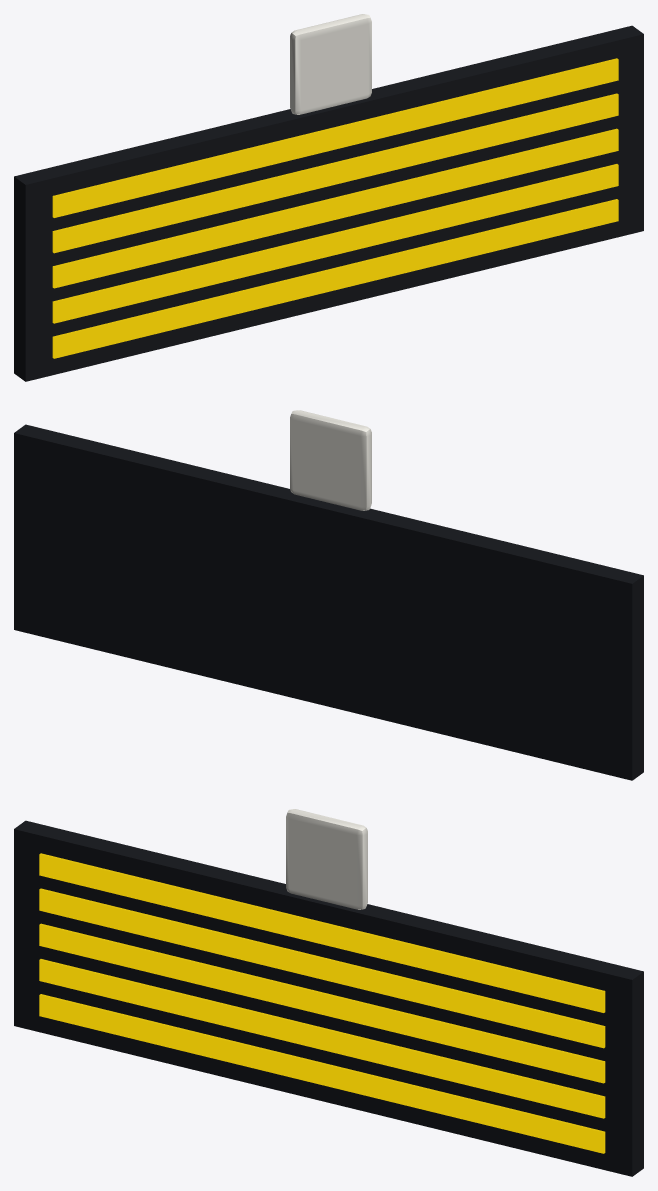
Rendered from departure-board.glb.
The picture shows the model from 3 angles, top to bottom: view 1: azimuth 30°, elevation 25°; view 2: azimuth 150°, elevation 25°; view 3: azimuth 330°, elevation 25°; orthographic projection.
Parts seen in each view (by area): view 1: part-board-frame, part-board-row, part-clock; view 2: part-board-frame, part-clock; view 3: part-board-frame, part-board-row, part-clock.
Boxes of the visible parts, x1,y1,x2,y2 form: part-board-frame: [14, 25, 643, 381]; part-board-row: [52, 58, 618, 358]; part-clock: [290, 14, 371, 114]; part-board-frame: [14, 424, 643, 780]; part-clock: [290, 410, 371, 510]; part-board-frame: [14, 820, 643, 1176]; part-board-row: [39, 853, 605, 1153]; part-clock: [286, 809, 367, 909].
Size of the model in its own units: 92 by 40 by 3.4.
